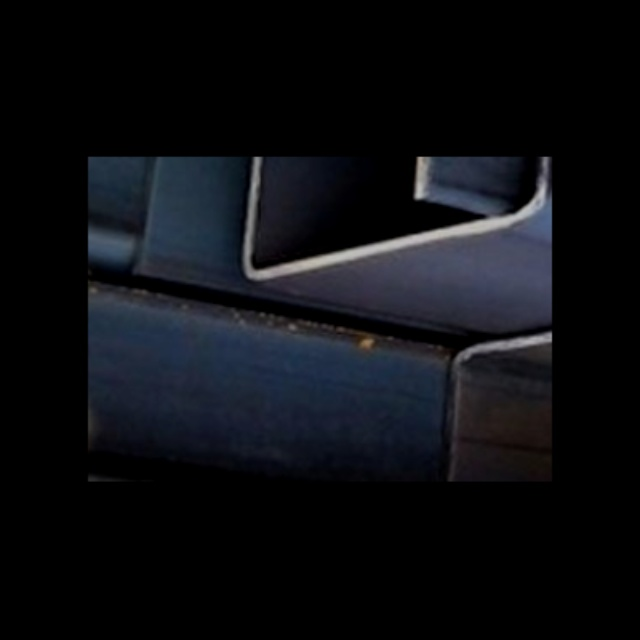Shveller: (247, 157, 552, 270), (138, 157, 433, 272), (451, 312, 552, 482)
